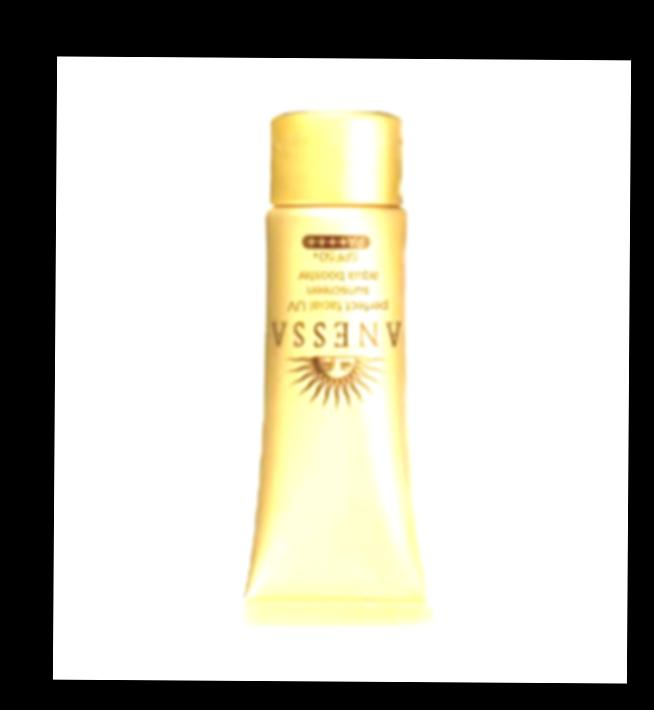cosmetic: (241, 110, 442, 626)
